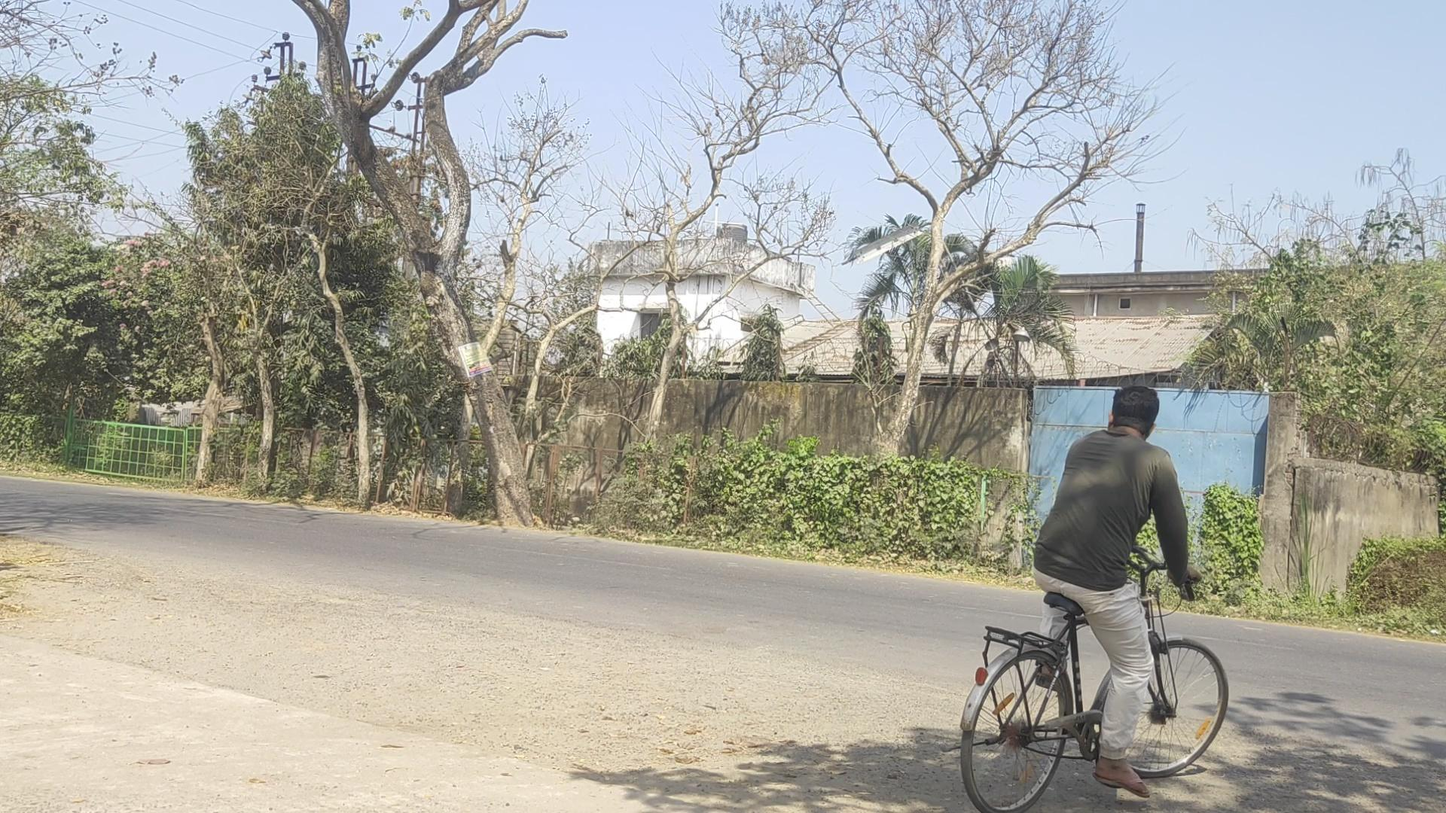bike: (958, 385, 1228, 813)
